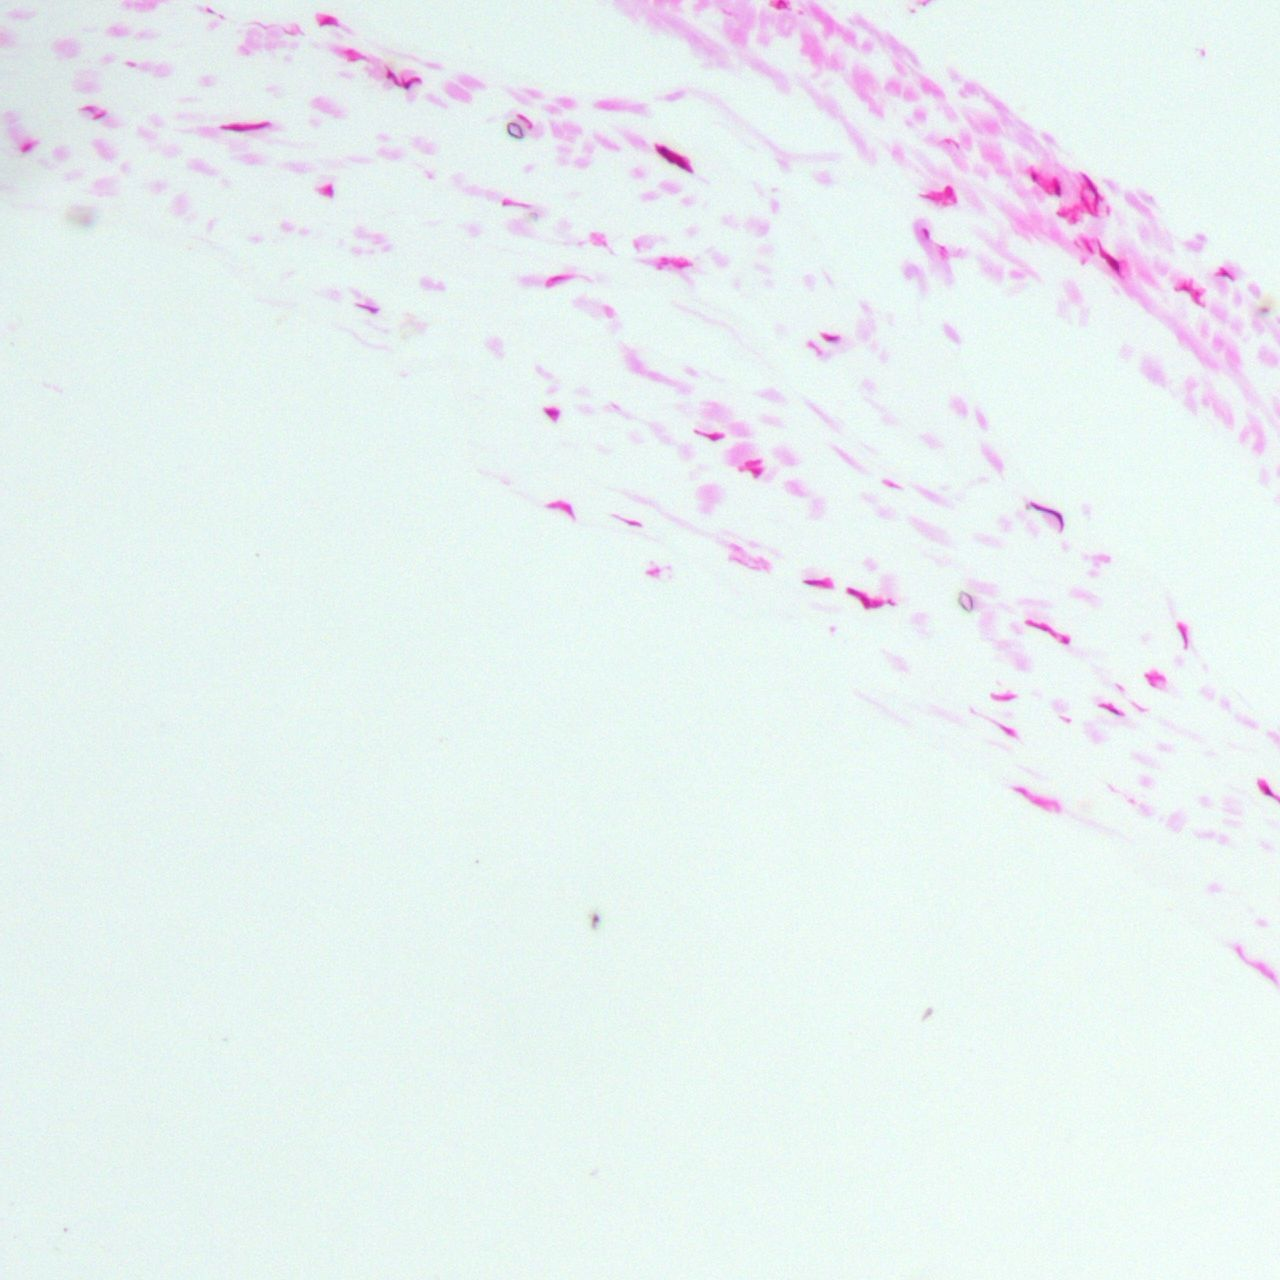dust: (953, 588, 978, 613), (503, 120, 527, 141), (591, 910, 601, 930), (62, 1227, 68, 1233)
nucleus-FG: (1010, 782, 1064, 817), (1029, 495, 1071, 532), (651, 141, 694, 173), (1024, 614, 1073, 644), (1092, 238, 1122, 274), (546, 498, 579, 518), (988, 719, 1021, 738), (610, 511, 644, 529), (220, 121, 271, 131), (1081, 172, 1101, 198), (1098, 700, 1123, 719), (1175, 622, 1189, 651), (384, 69, 402, 90), (515, 113, 536, 129), (693, 429, 721, 441), (1080, 195, 1095, 216), (355, 300, 377, 314), (403, 75, 423, 90), (1080, 236, 1095, 254), (545, 273, 568, 284), (659, 261, 693, 268), (1145, 673, 1158, 689), (1219, 266, 1233, 280), (989, 694, 1017, 701), (316, 183, 332, 196), (20, 139, 35, 152), (804, 579, 828, 587), (845, 586, 862, 598), (502, 200, 529, 207), (821, 333, 839, 342), (944, 185, 954, 200), (348, 55, 367, 62), (91, 111, 105, 121), (320, 20, 338, 27), (862, 595, 870, 610), (1054, 181, 1061, 197), (1175, 285, 1191, 292), (546, 408, 559, 416), (1193, 290, 1201, 302), (81, 105, 95, 111), (1030, 172, 1037, 184), (751, 468, 760, 477), (1092, 196, 1097, 211), (872, 601, 881, 608), (922, 229, 930, 238), (1056, 211, 1068, 216)
